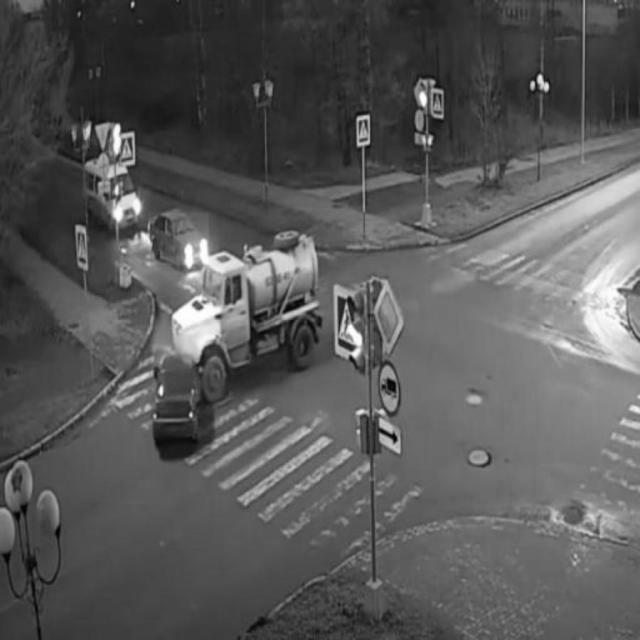accident: (144, 240, 318, 437)
vehicle: (86, 156, 141, 230), (148, 213, 209, 265)
